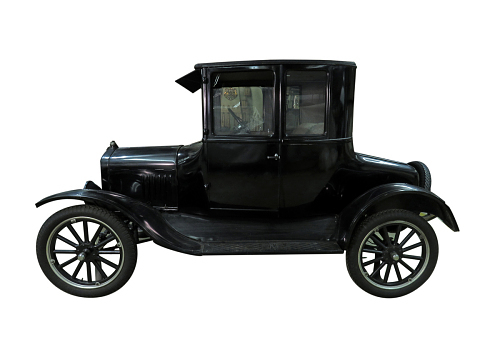car: (33, 57, 462, 302)
